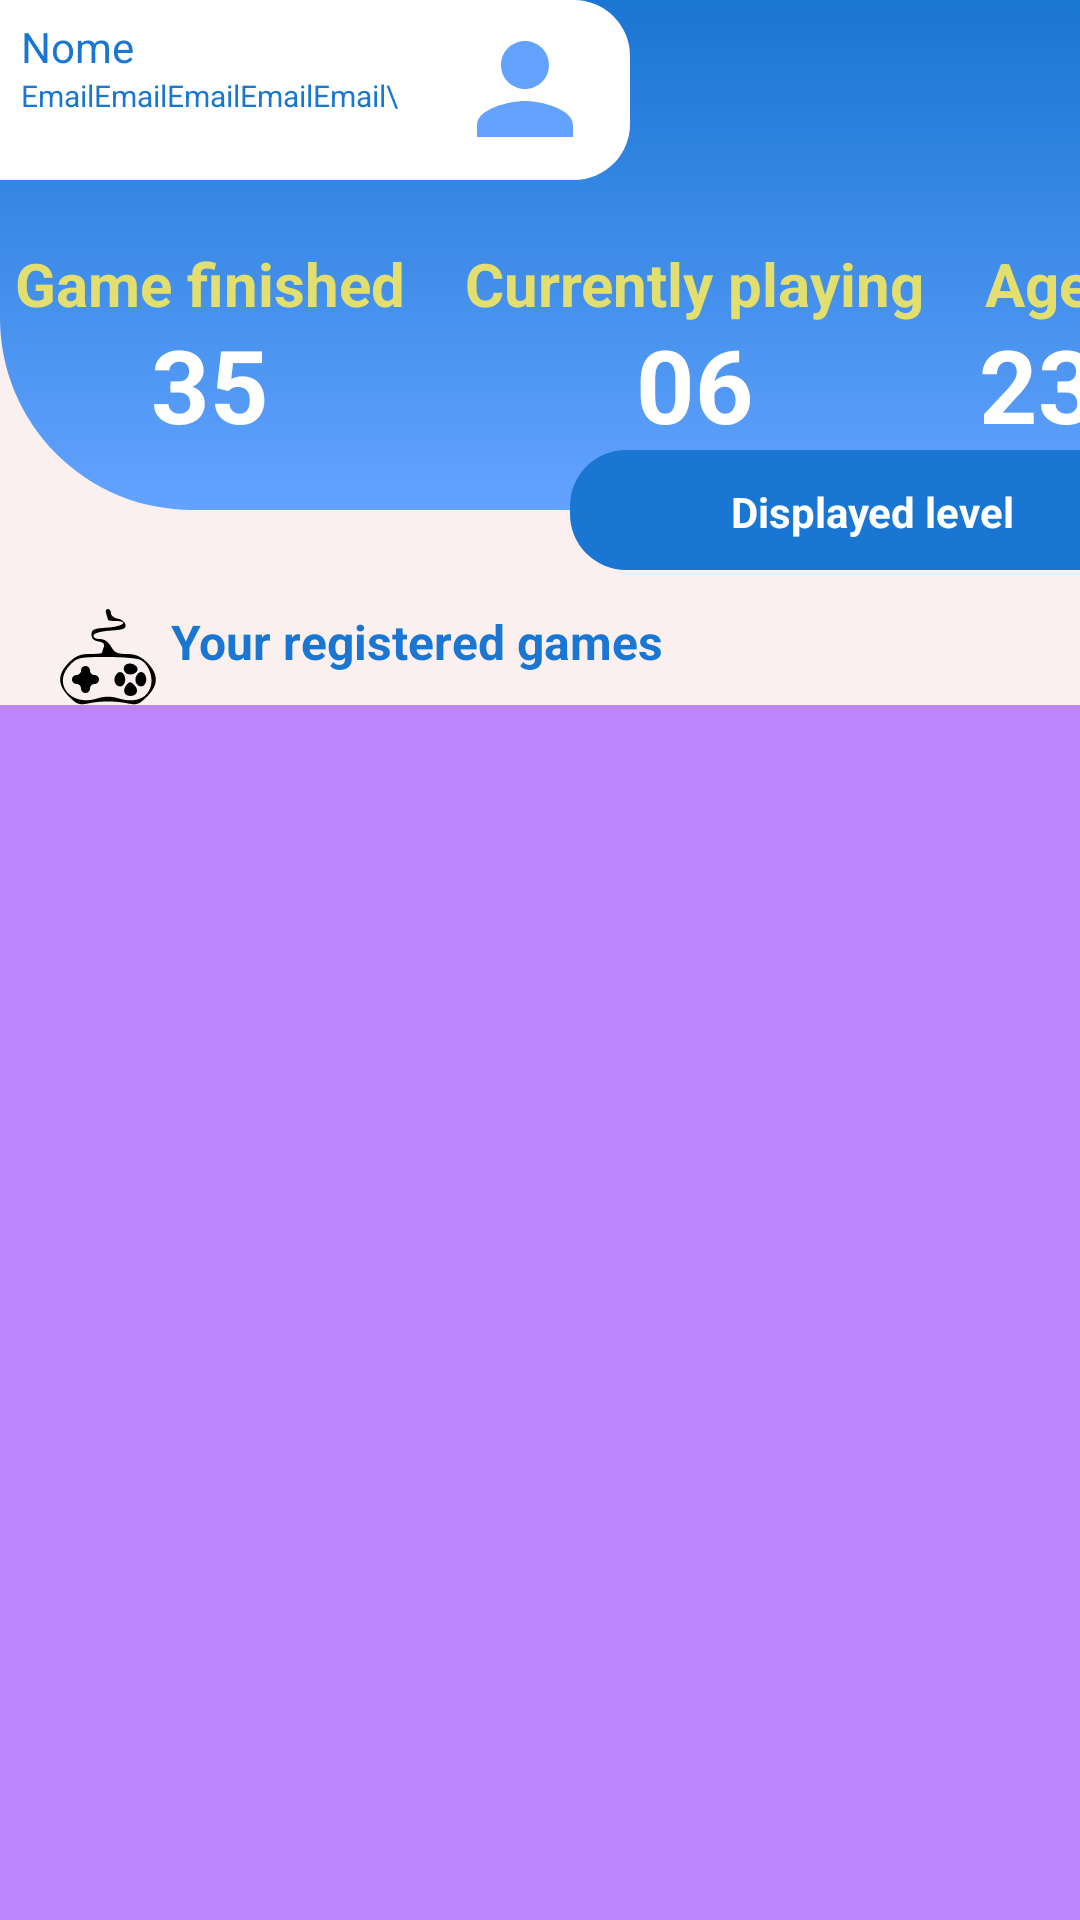

Icon click points for this 1080×1920 phone screenshot, format (x,y):
person: (525,89)
